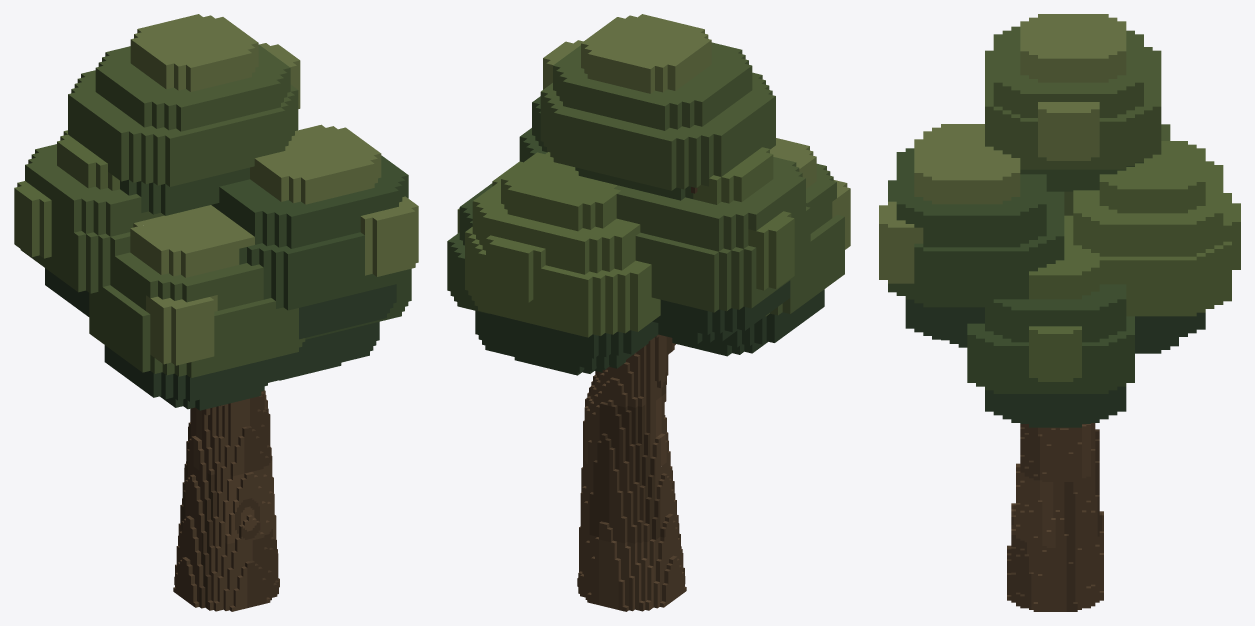
File: oak_mature.glb
3 views of the same model, side by side, from view 1: azimuth 30°, elevation 25°; view 2: azimuth 150°, elevation 25°; view 3: azimuth 270°, elevation 25° (orthographic). The views are drawn at different scales.
Parts seen in each view (by area): view 1: VoxelVisual; view 2: VoxelVisual; view 3: VoxelVisual.
Boxes of the visible parts, <box> form: VoxelVisual: <box>14,14,418,611</box>; VoxelVisual: <box>447,14,850,611</box>; VoxelVisual: <box>879,14,1240,611</box>.
Size of what is drawn, in the model's own units: 11 by 17 by 10.25.
